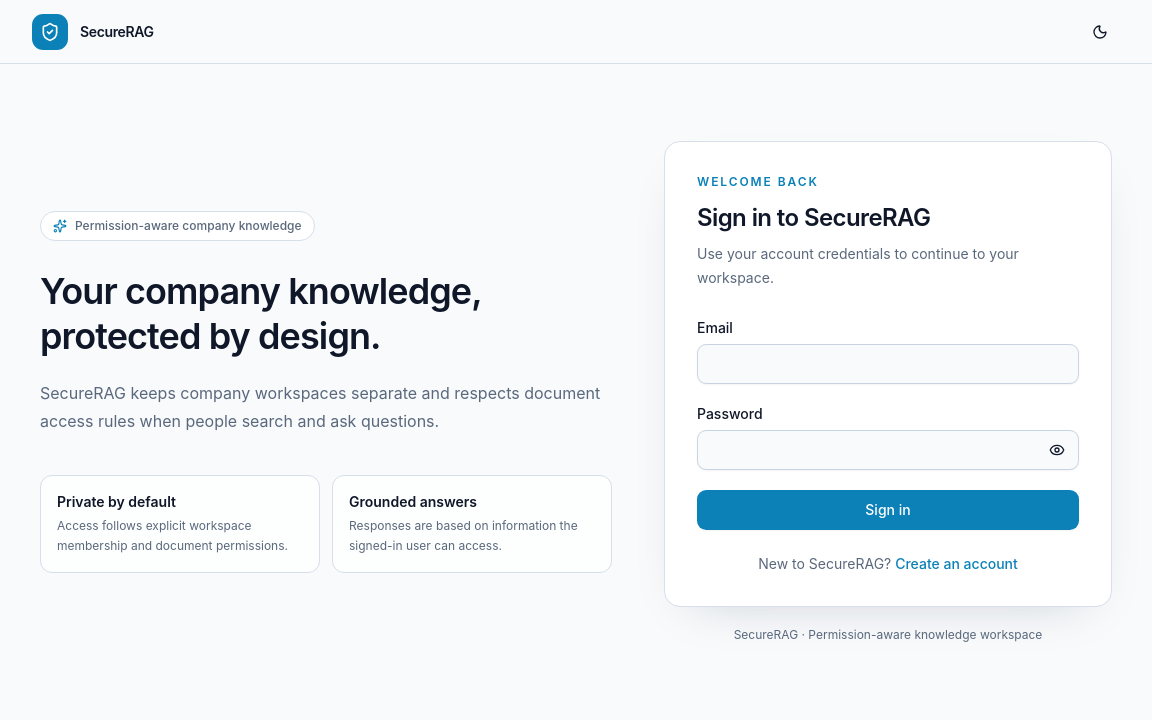
it: authentication routes and screens › validates required login fields and displays a generic credential error
The width and height of the screenshot is (1152, 720).
Click the button "Sign in" at (888, 510), box [697,490,1079,530]
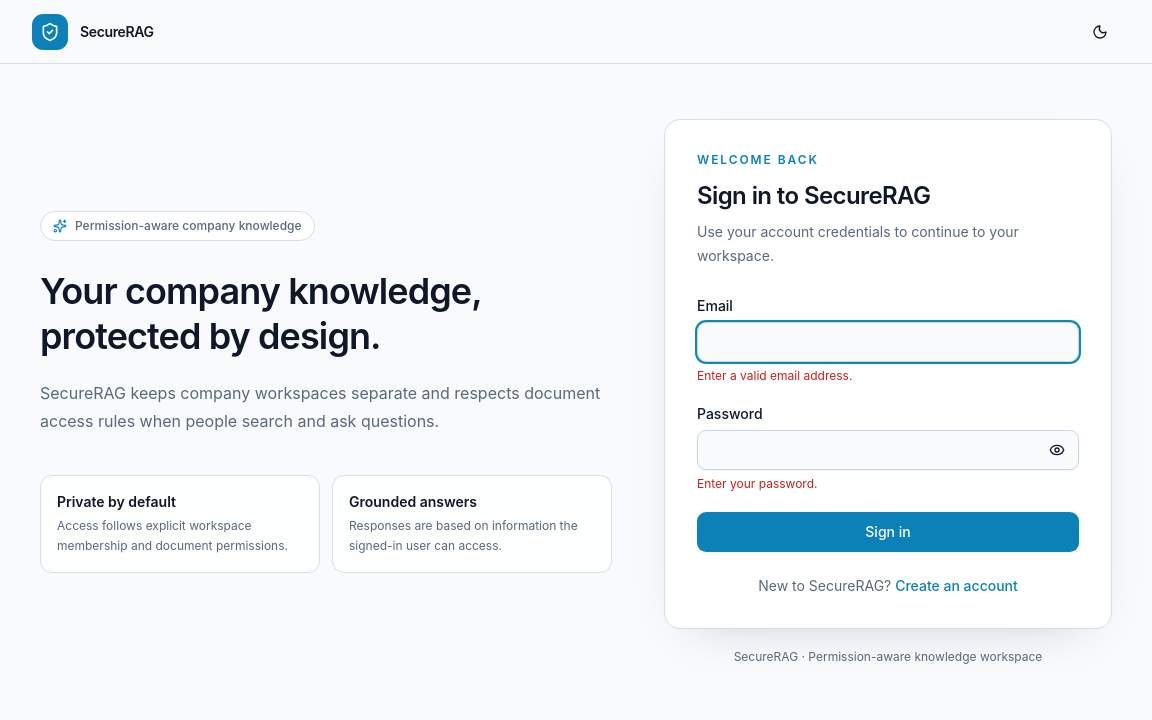
Expected: the text "Enter a valid email address." is shown, [697,368,852,383]
Expected: the text "Enter your password." is shown, [697,476,818,491]
Type "user@example.test" into the field labelled "Email" at (888, 342), box [697,322,1079,362]
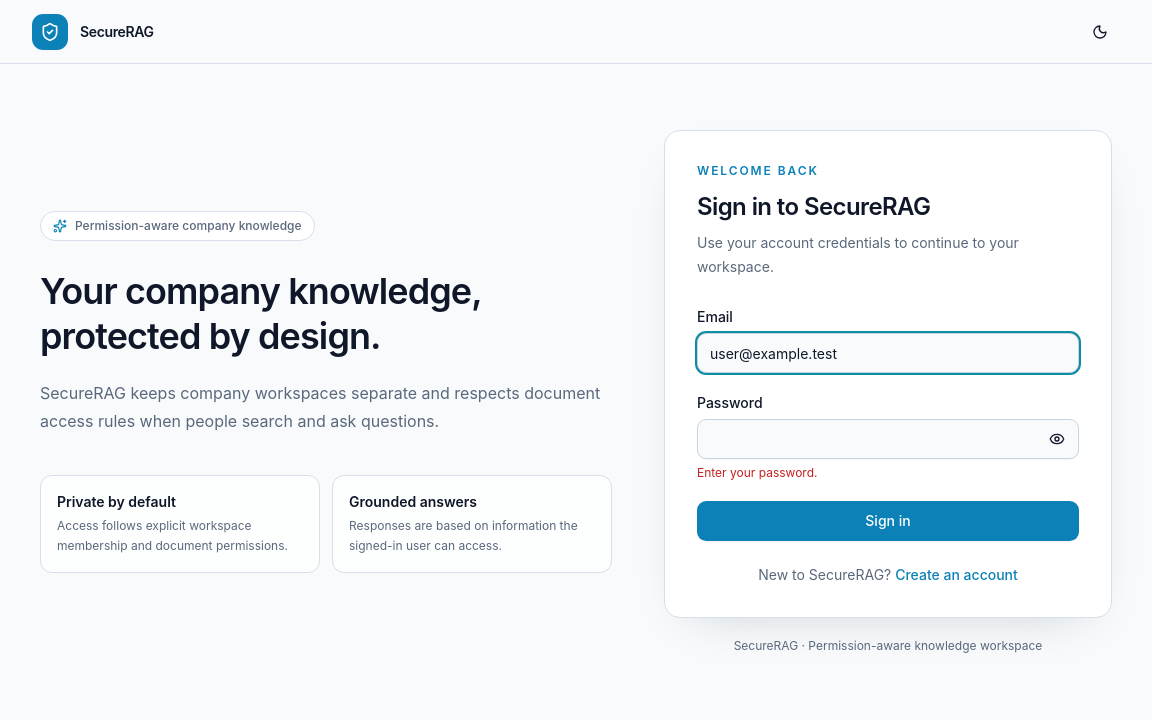
Type "wrong-password" into the password field labelled "Password" at (888, 439), box [697,419,1079,459]
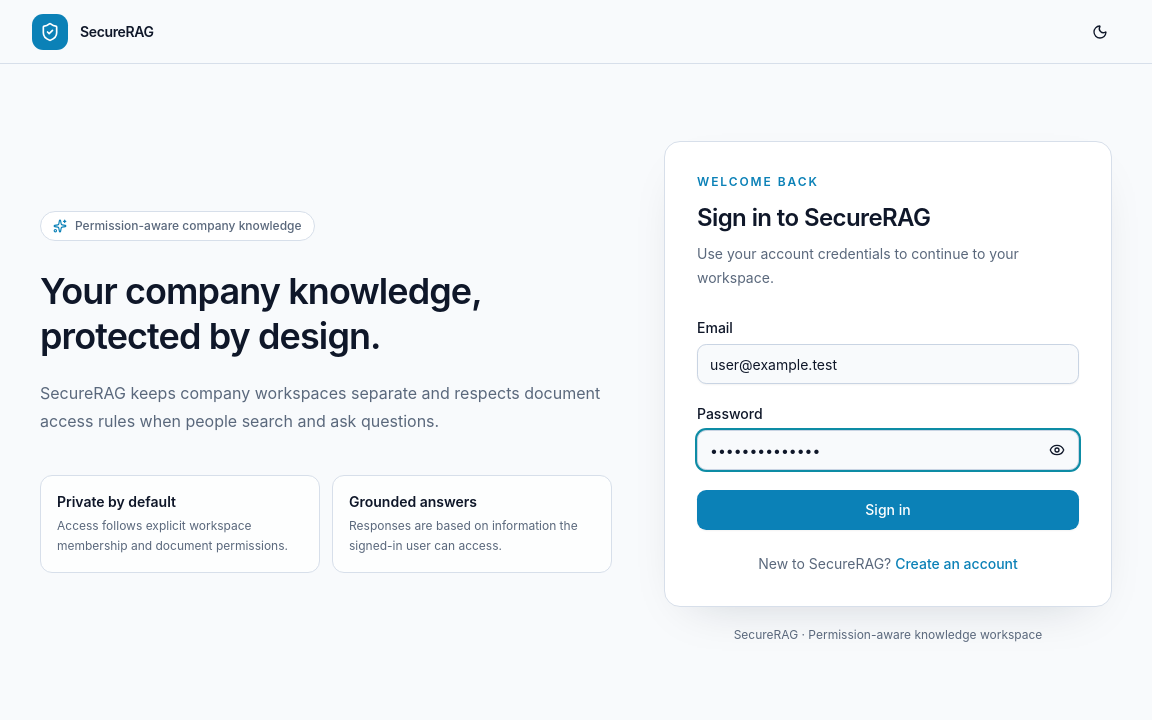
Click the button "Sign in" at (888, 510), box [697,490,1079,530]
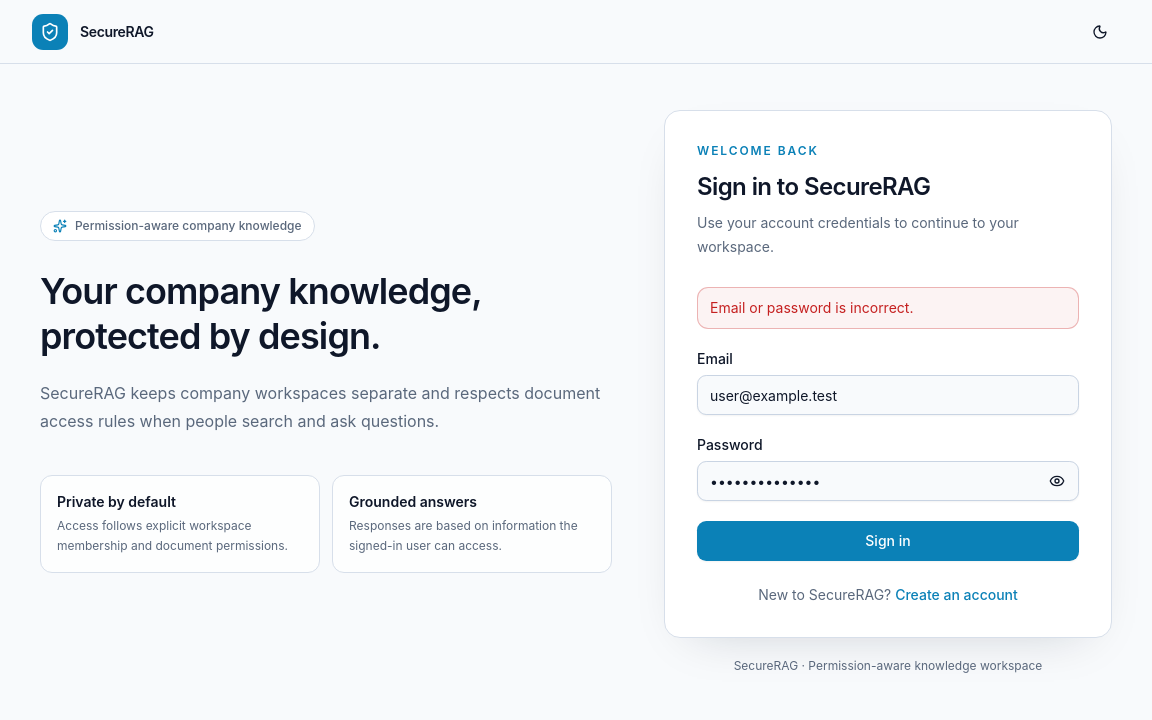
Expected: the message reads "Email or password is incorrect.", [710,299,913,316]
